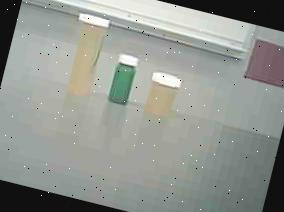Bottle A: (56, 6, 120, 110)
Bottle B: (138, 64, 186, 128)
Bottle C: (102, 46, 146, 112)
